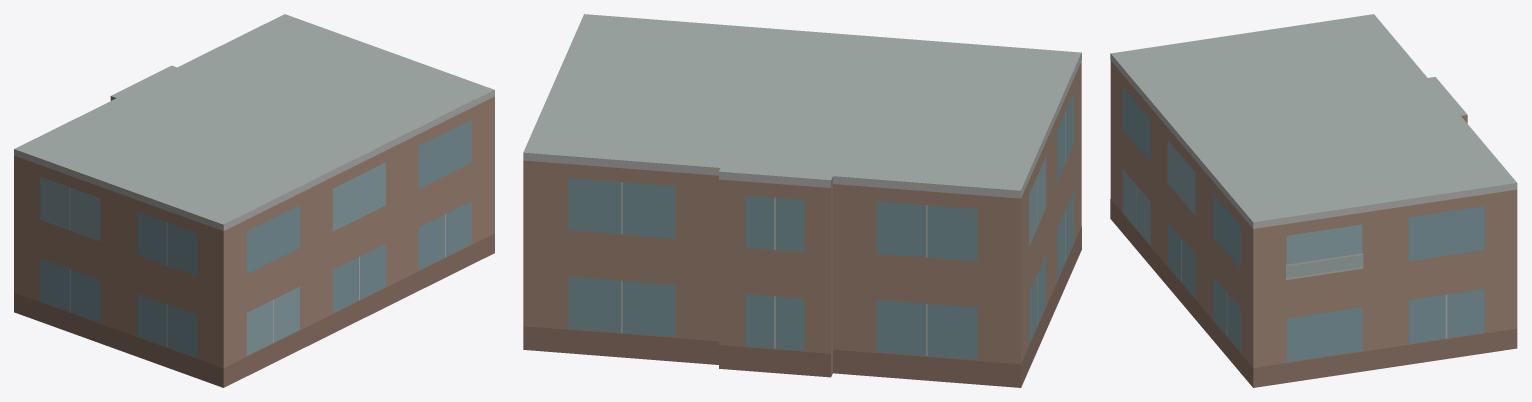
Rendered from survey-upis-33008026.glb.
The picture shows the model from 3 angles, left to right: view 1: azimuth 30°, elevation 25°; view 2: azimuth 150°, elevation 25°; view 3: azimuth 270°, elevation 25°; orthographic projection. The views are drawn at different scales.
Parts seen in each view (by area): view 1: survey-upis-33008026.tmp; view 2: survey-upis-33008026.tmp; view 3: survey-upis-33008026.tmp.
Part boxes in pixels (left/top/right/bottom): survey-upis-33008026.tmp: left=14, top=14, right=494, bottom=387; survey-upis-33008026.tmp: left=523, top=14, right=1081, bottom=387; survey-upis-33008026.tmp: left=1110, top=14, right=1517, bottom=387.
Bounding box in the file's own units: 16.49 × 6.1 × 13.6.
